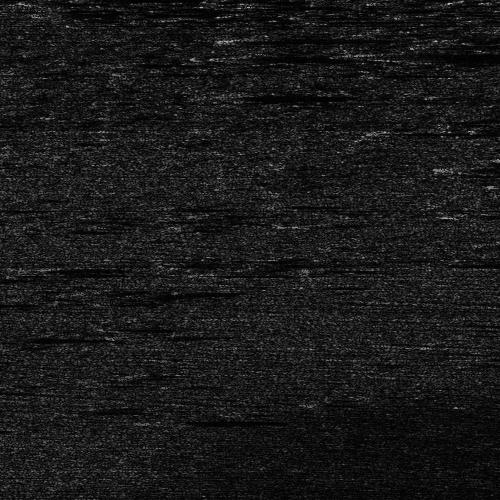rock: (330, 47, 413, 64), (357, 124, 420, 137), (189, 52, 262, 63), (210, 32, 263, 43), (129, 418, 202, 423), (443, 165, 496, 170), (26, 264, 57, 271), (0, 337, 13, 340)
shadow: (372, 47, 500, 64), (237, 32, 403, 43), (226, 52, 390, 63), (389, 124, 500, 137), (0, 376, 38, 405), (166, 418, 288, 423), (42, 264, 125, 271), (221, 95, 349, 98), (470, 165, 500, 170), (0, 337, 25, 340)
